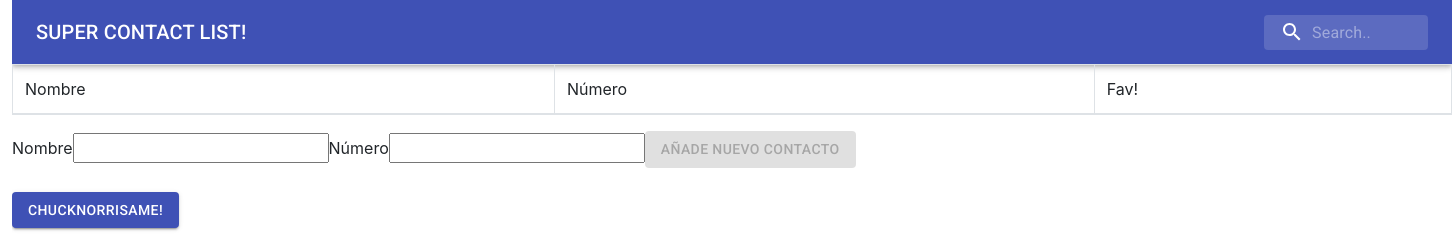
it: Contact list functionality › With localStorage › Should set the button disabled as false if phone number is 123456789
In the field labelled "Nombre": [200, 148] box [72, 133, 328, 163], type "Juan"
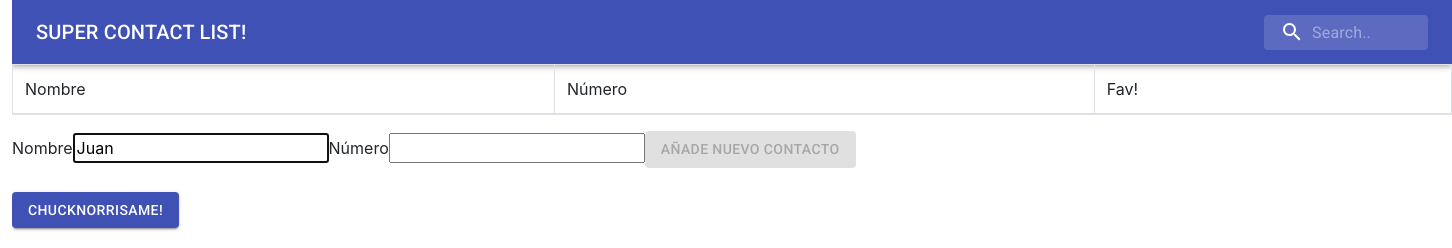
In the field labelled "Número": [517, 148] box [389, 133, 645, 163], type "123456789"
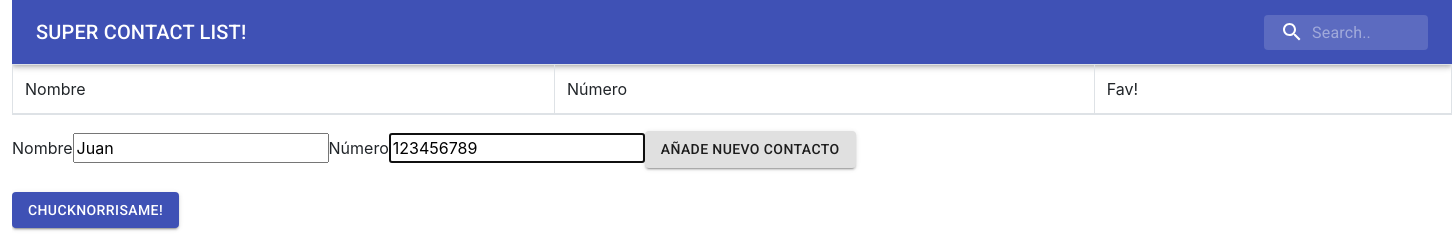
Expected: the button "Añade nuevo contacto" is enabled, [645, 131, 856, 168]
